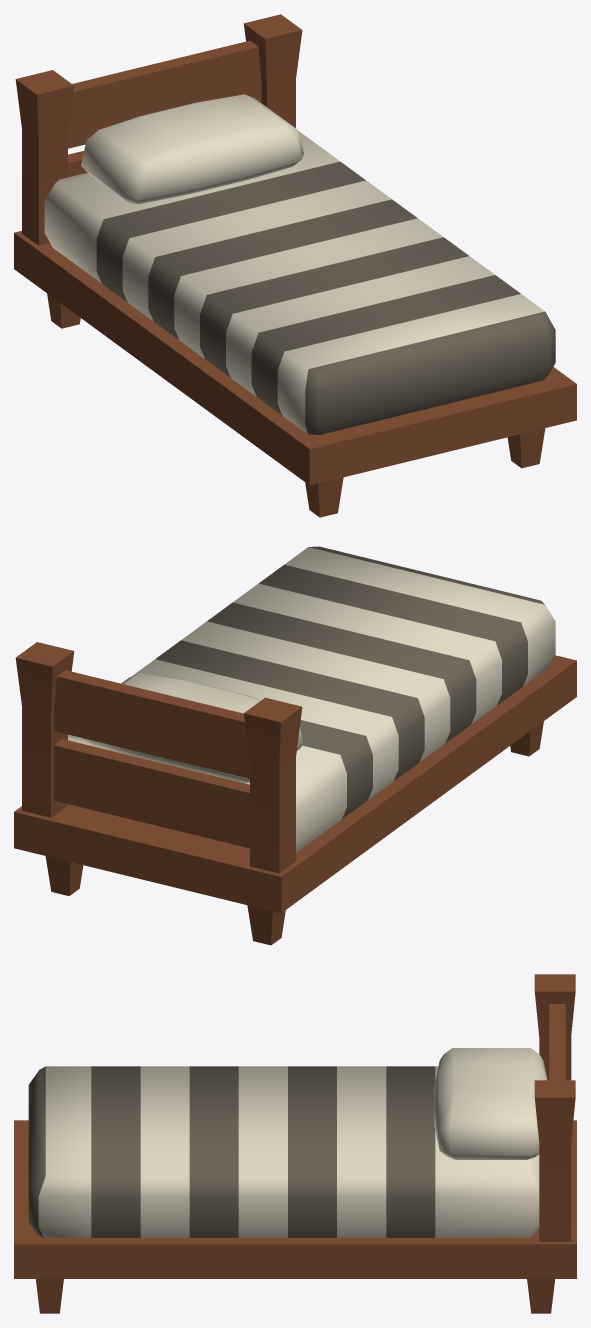
File: 01_furniture_bed.FBX
3 views of the same model, one above another, from view 1: azimuth 30°, elevation 25°; view 2: azimuth 150°, elevation 25°; view 3: azimuth 270°, elevation 25° (orthographic). The views are drawn at different scales.
Visible parts, largest first — view 1: furniture_bed, prop_pillow; view 2: furniture_bed, prop_pillow; view 3: furniture_bed, prop_pillow.
Boxes of the visible parts, x1=… form: furniture_bed: x1=14, y1=14, x2=576, y2=517; prop_pillow: x1=81, y1=94, x2=303, y2=204; furniture_bed: x1=14, y1=546, x2=576, y2=945; prop_pillow: x1=83, y1=673, x2=303, y2=783; furniture_bed: x1=14, y1=974, x2=576, y2=1313; prop_pillow: x1=434, y1=1048, x2=547, y2=1159.
Bounding box in the file's own units: 74.1 × 63.1 × 142.
